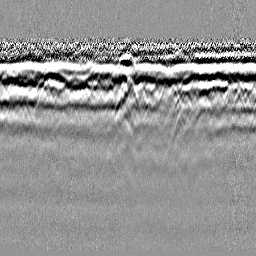cavity: (119, 75, 139, 107)
